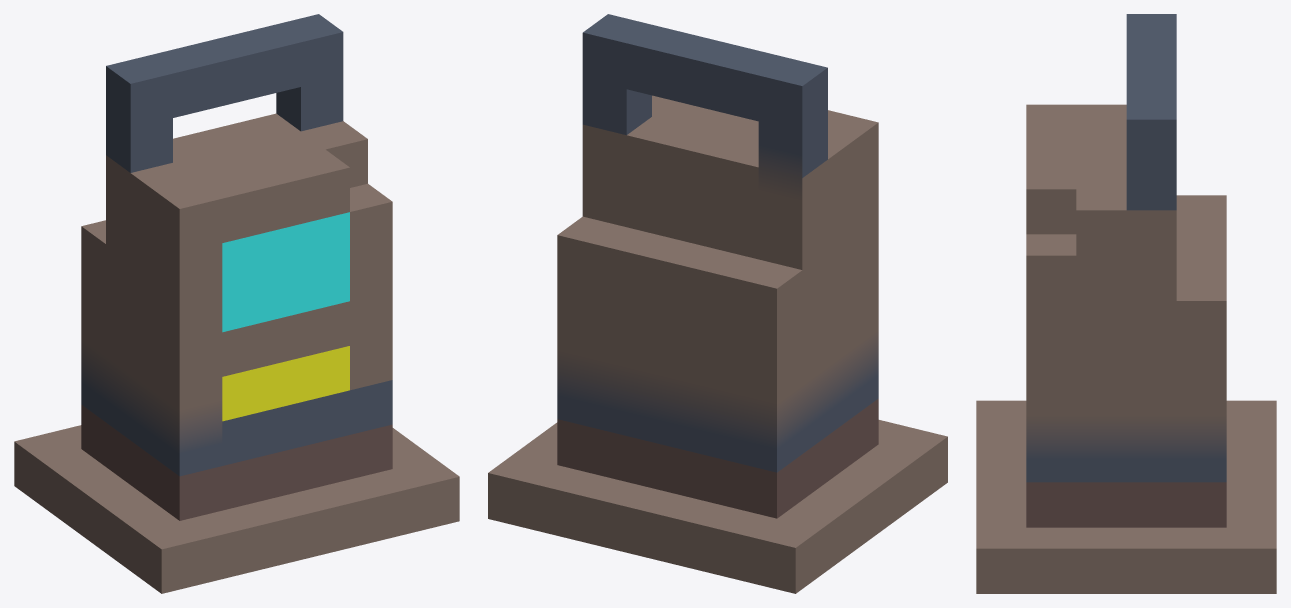
Rendered from TrashBin.fbx.
The picture shows the model from 3 angles, left to right: view 1: azimuth 30°, elevation 25°; view 2: azimuth 150°, elevation 25°; view 3: azimuth 270°, elevation 25°; orthographic projection. The views are drawn at different scales.
Parts seen in each view (by area): view 1: TrashBin; view 2: TrashBin; view 3: TrashBin.
Boxes of the visible parts, left/top/right/bottom form: TrashBin: left=14, top=14, right=459, bottom=593; TrashBin: left=488, top=14, right=947, bottom=593; TrashBin: left=976, top=14, right=1276, bottom=593.
Bounding box in the file's own units: 70 × 100 × 60.
